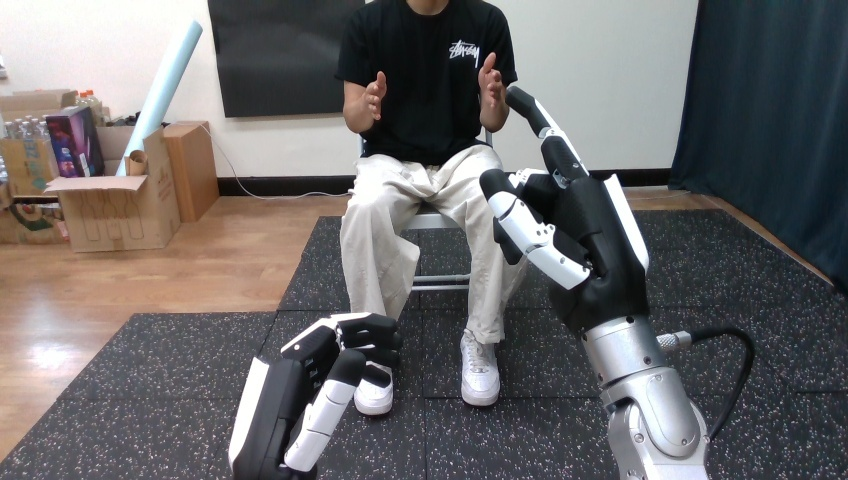left robot arm: (480, 86, 753, 479), (664, 333, 747, 431)
left robot hand: (480, 86, 753, 479), (664, 333, 747, 431)
right robot arm: (480, 86, 753, 479), (664, 333, 747, 431)
right robot hand: (480, 86, 753, 479), (664, 333, 747, 431)
